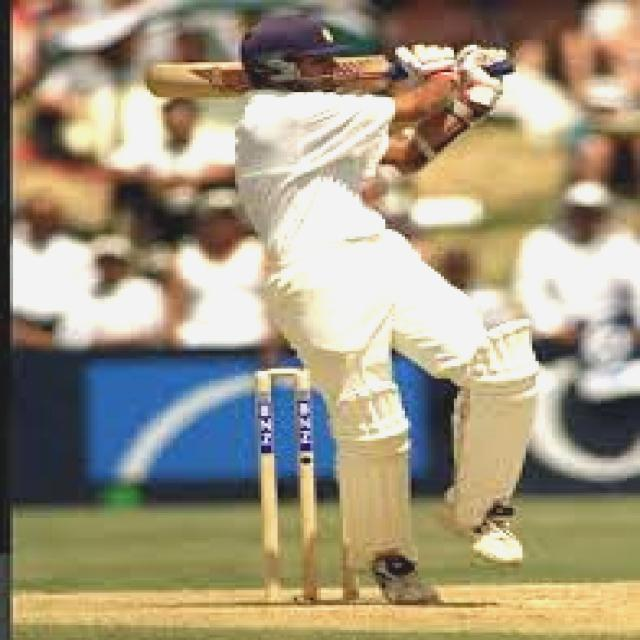toe: (134, 65, 171, 101)
